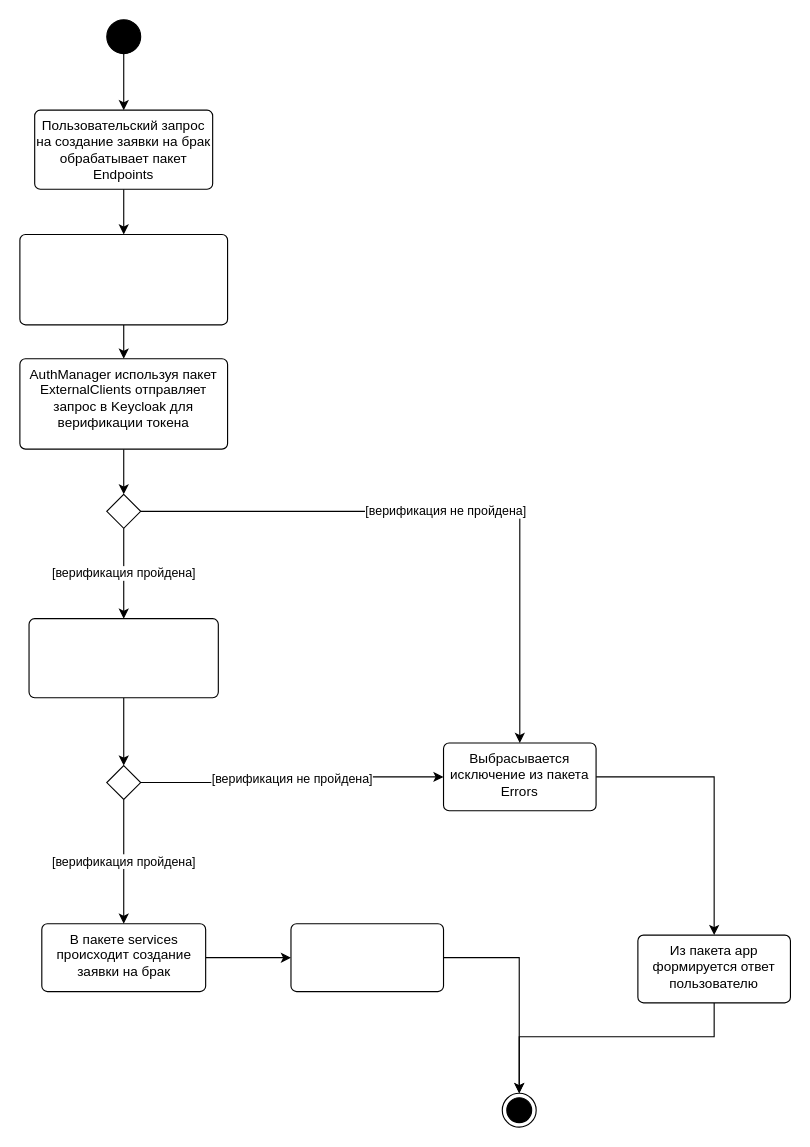
This 810x1147 diagram has some shape labels left out. The shapes that lost their labels are listed below. From the top down, each one's centre as x and y in pixels, then its label:
At (x=123, y=279): "Отправляется запрос на верификацию пользователя через AuthManager".
At (x=123, y=658): "Пакетом schemas верифицируется статус заявки, права и роль пользователя".
At (x=367, y=957): "Из пакета Endpoints формируется ответ пользователю".
